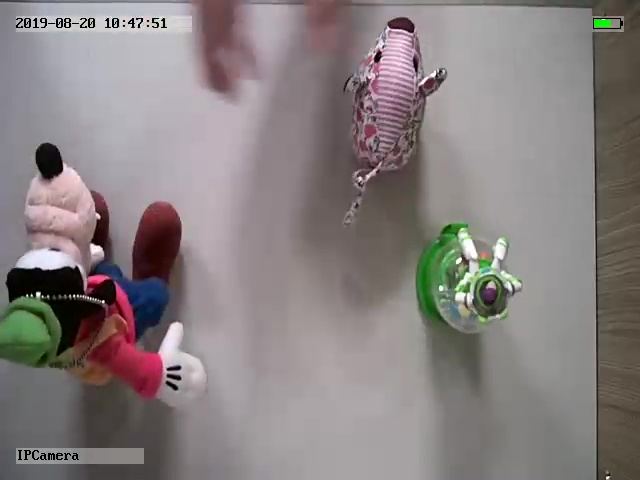buzz: (416, 220, 526, 335)
goofy: (1, 139, 211, 411)
pig: (337, 16, 449, 224)
